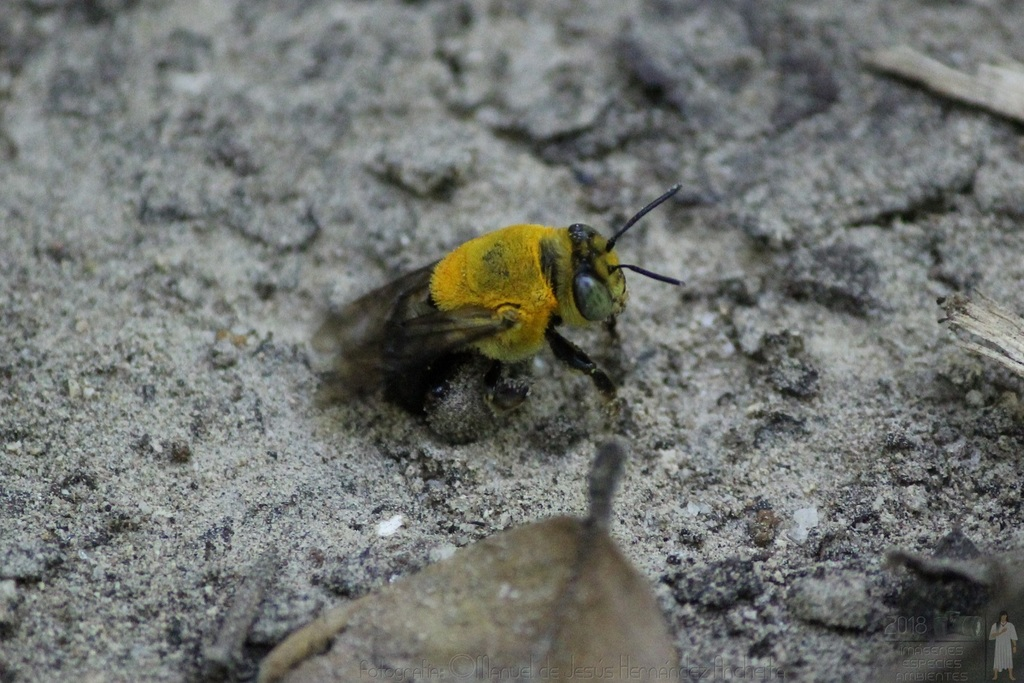not_bumblebee: (309, 184, 688, 417)
